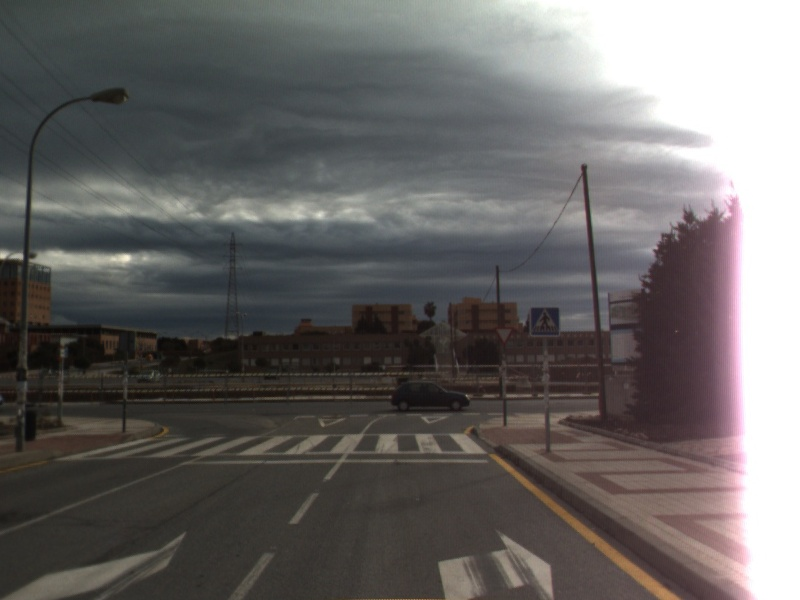RIGHT: (1, 527, 189, 600), (434, 524, 556, 600)
